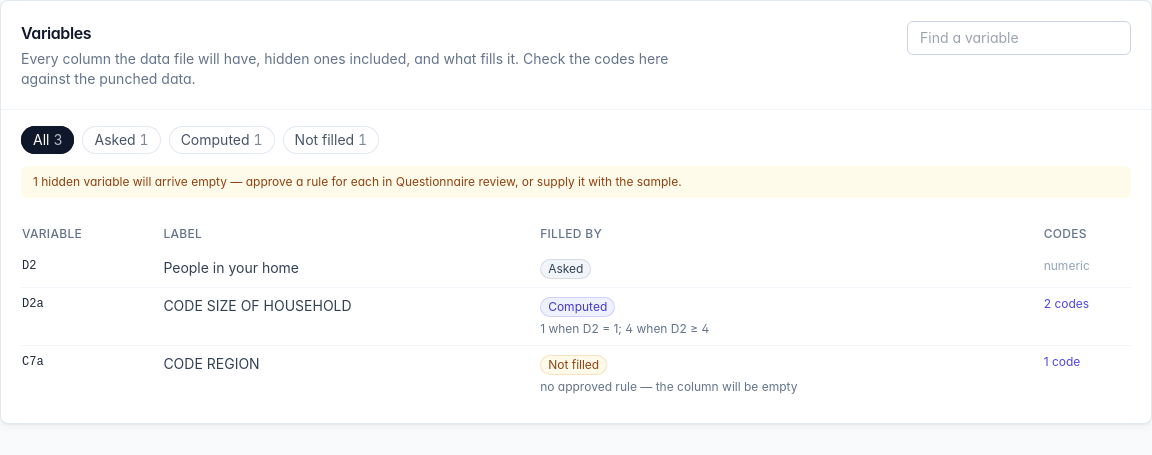
Test: VariablesPanel › lists every variable with what fills it and warns about empty ones
Check: the text "D2a" is shown, box [21,288,162,346]
Check: the text "1 when D2 = 1; 4 when D2 ≥ 4" is shown, box [540,321,709,336]
Click the tab "Not filled 1" at (331, 140), box [283,126,379,154]
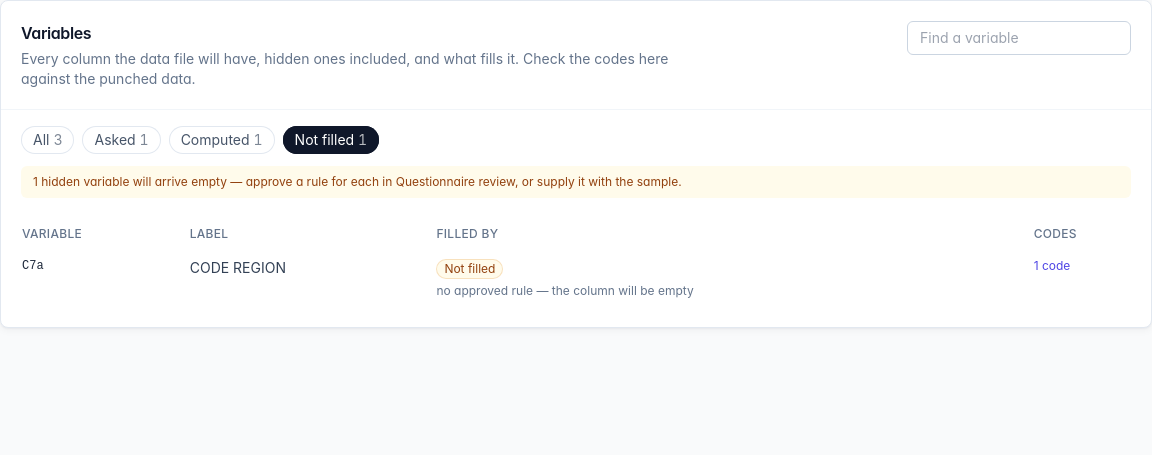
Check: the text "C7a" is shown, box [21,250,189,307]
Check: the text "D2a" is gone
Click the tab "All 3" at (48, 140), box [21,126,74,154]
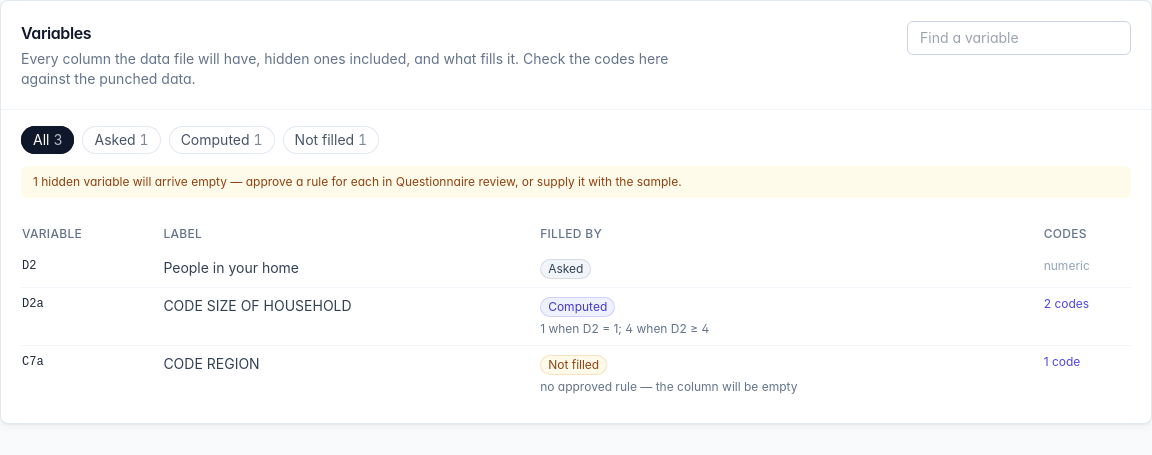
Click the button "2 codes" at (1066, 304), box [1044,296,1089,312]
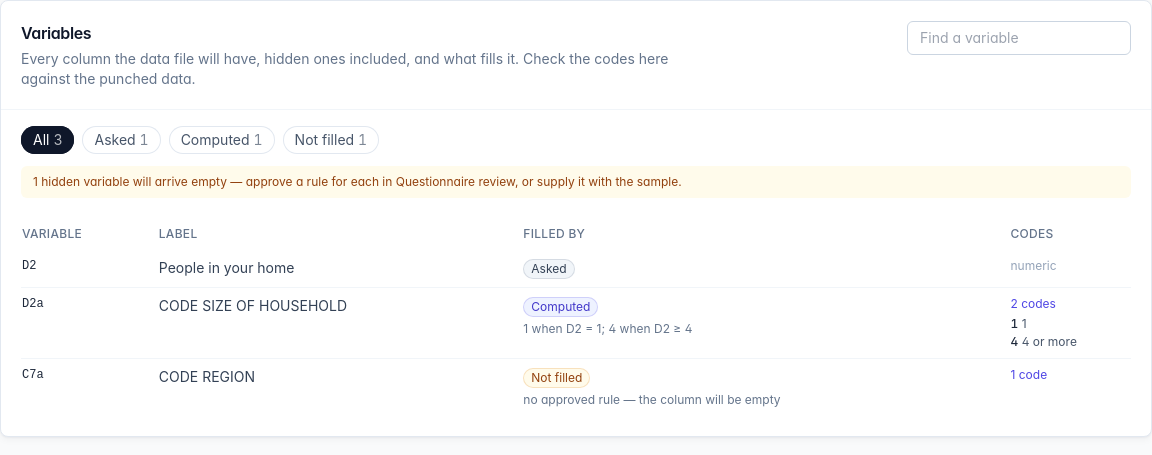
Check: the list item "4 or more" is shown, box [1022,334,1077,349]
